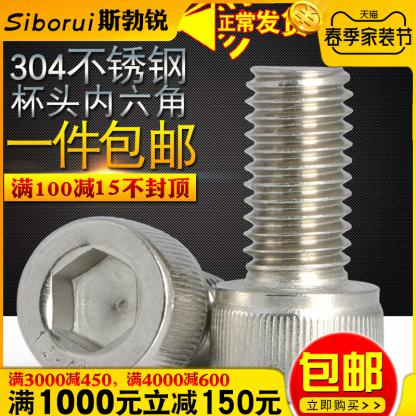FOD: (206, 62, 388, 410), (12, 213, 233, 382)
